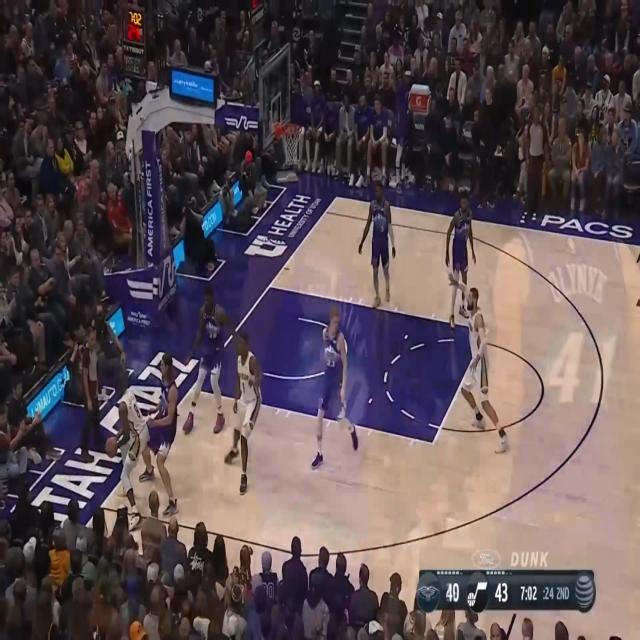Ball: (105, 436, 119, 458)
Hoop: (280, 121, 303, 168)
Period: (556, 583, 570, 603)
Player: (448, 268, 511, 456), (181, 289, 234, 429), (314, 313, 358, 471), (113, 366, 153, 529), (224, 333, 263, 497), (146, 353, 181, 516), (360, 177, 396, 306), (446, 188, 476, 326)
Ref: (80, 325, 110, 457), (520, 102, 551, 227)
Shot Clock: (543, 585, 554, 603)
Team Points: (445, 579, 460, 606), (496, 580, 508, 605)
Time Remaining: (520, 581, 538, 604)
